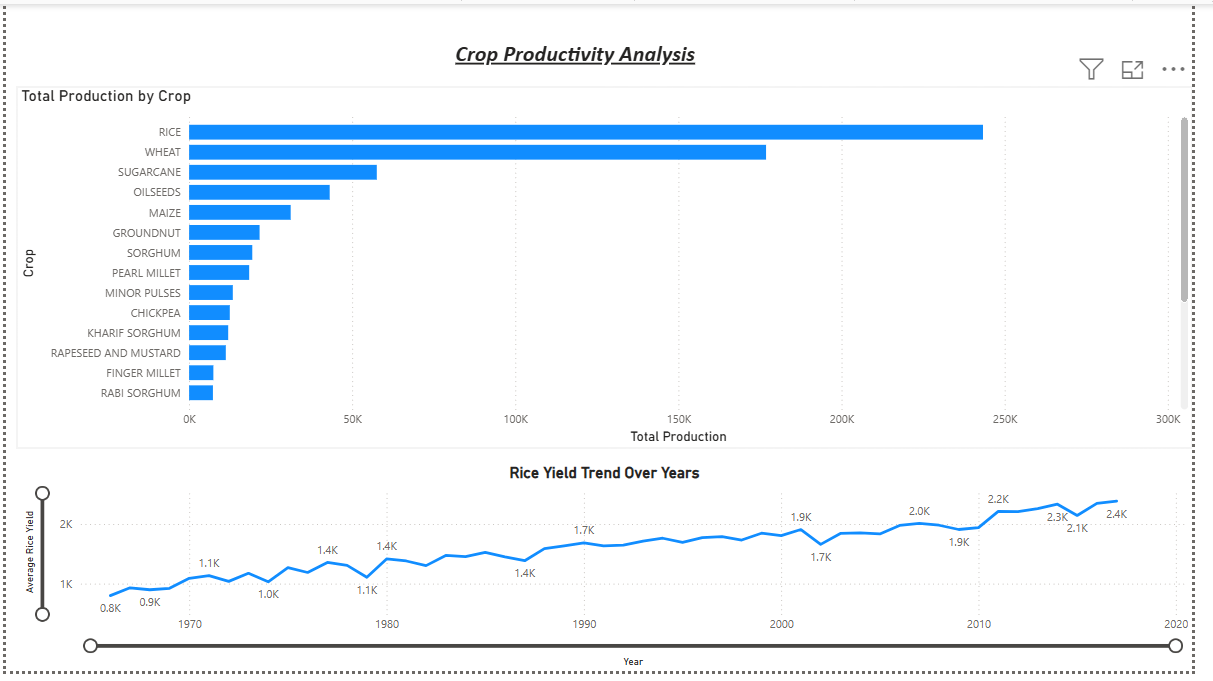

The dashboard page shown, as its layout file describes it:
{"tool":"powerbi","page":{"name":"Crop Analytics","canvas":[1280,720],"ordinal":2},"visuals":[{"type":"lineChart","title":"Rice Yield Trend Over Years","fields":{"Category":["Dim_Date.Year"],"Y":["Dim_State.Average Rice Yield"]},"box":[11.3,495.5,1269.5,225.1],"z":0},{"type":"clusteredBarChart","fields":{"Category":["Fact_Crop_Production.Crop"],"Y":["Dim_State.Total Production"]},"box":[11.3,89.1,1269.5,390.2],"z":1000},{"type":"textbox","box":[464.7,34,299.6,43.7],"z":2000}]}

Visuals, with their boxes in screenshot pixels (x1, y1, x2, y2), scaled from the page's 1280x720 canvas onto the 1213x681 screenshot:
"Rice Yield Trend Over Years" lineChart: crop(11, 469, 1212, 680)
clusteredBarChart - Fact_Crop_Production.Crop x Dim_State.Total Production: crop(11, 84, 1212, 453)
textbox: crop(440, 32, 724, 73)
